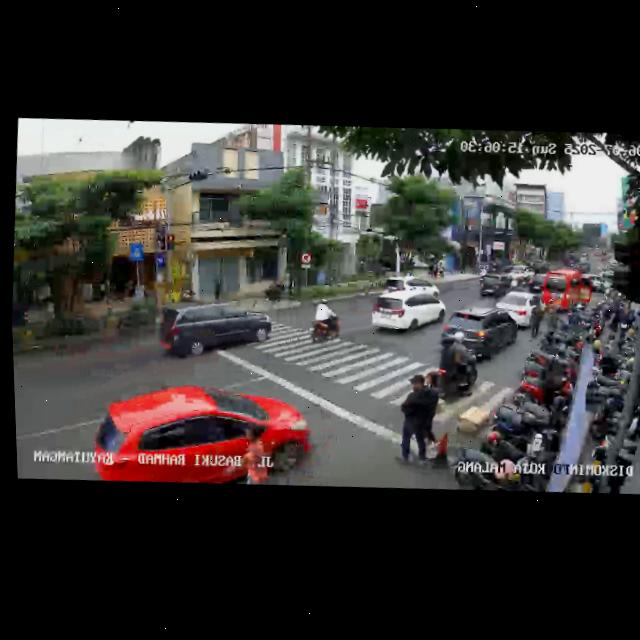car: (87, 372, 316, 495), (158, 295, 276, 367), (439, 304, 520, 364), (368, 284, 445, 341), (540, 266, 597, 316), (491, 286, 549, 331), (477, 271, 516, 301)
motorcycle: (434, 332, 482, 403), (307, 295, 344, 346)
person: (392, 370, 436, 470), (225, 417, 275, 487), (419, 369, 442, 446), (526, 296, 548, 342)
